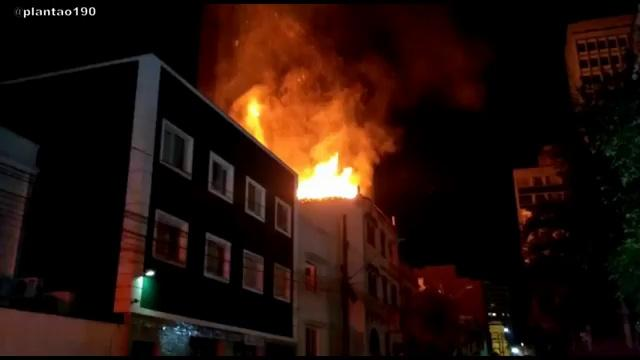fire: (302, 158, 355, 196)
smoke: (262, 41, 363, 115)
